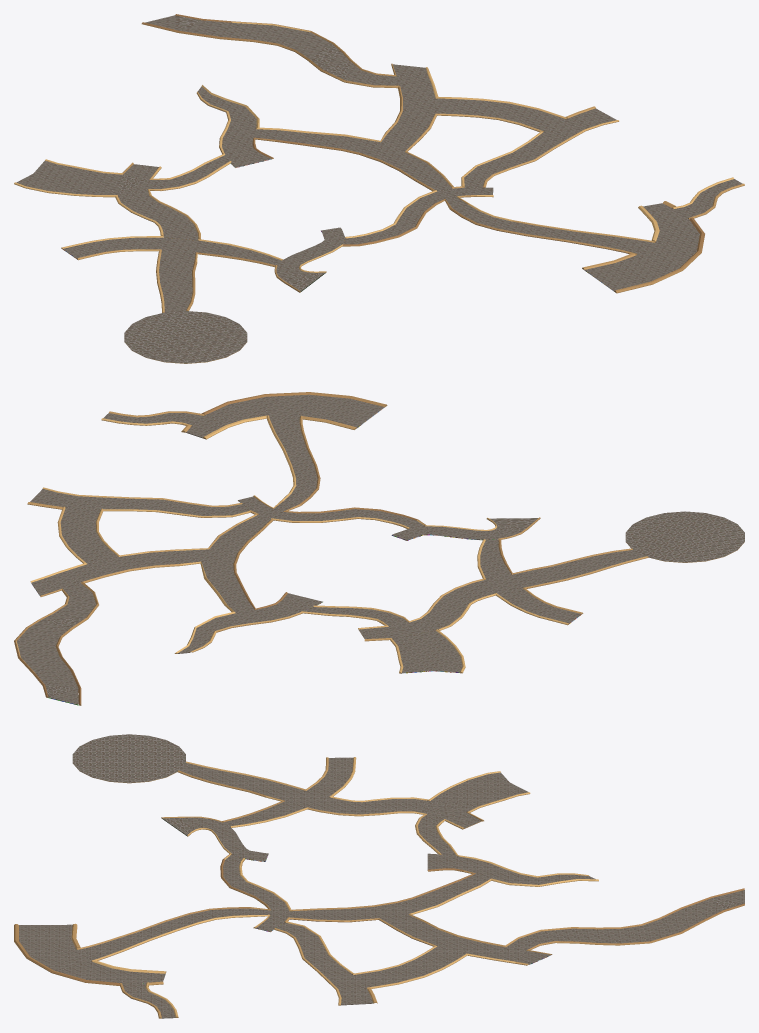
File: Path.glb
3 views of the same model, one above another, from view 1: azimuth 30°, elevation 25°; view 2: azimuth 150°, elevation 25°; view 3: azimuth 270°, elevation 25° (orthographic). The views are drawn at different scales.
Visible parts, largest first — view 1: Path; view 2: Path; view 3: Path.
Boxes of the visible parts, x1=… form: Path: x1=14, y1=14, x2=744, y2=363; Path: x1=14, y1=392, x2=744, y2=705; Path: x1=14, y1=734, x2=744, y2=1018.
Bounding box in the file's own units: 187 × 0.6105 × 203.
Materials: 2 (2 with a texture image).
